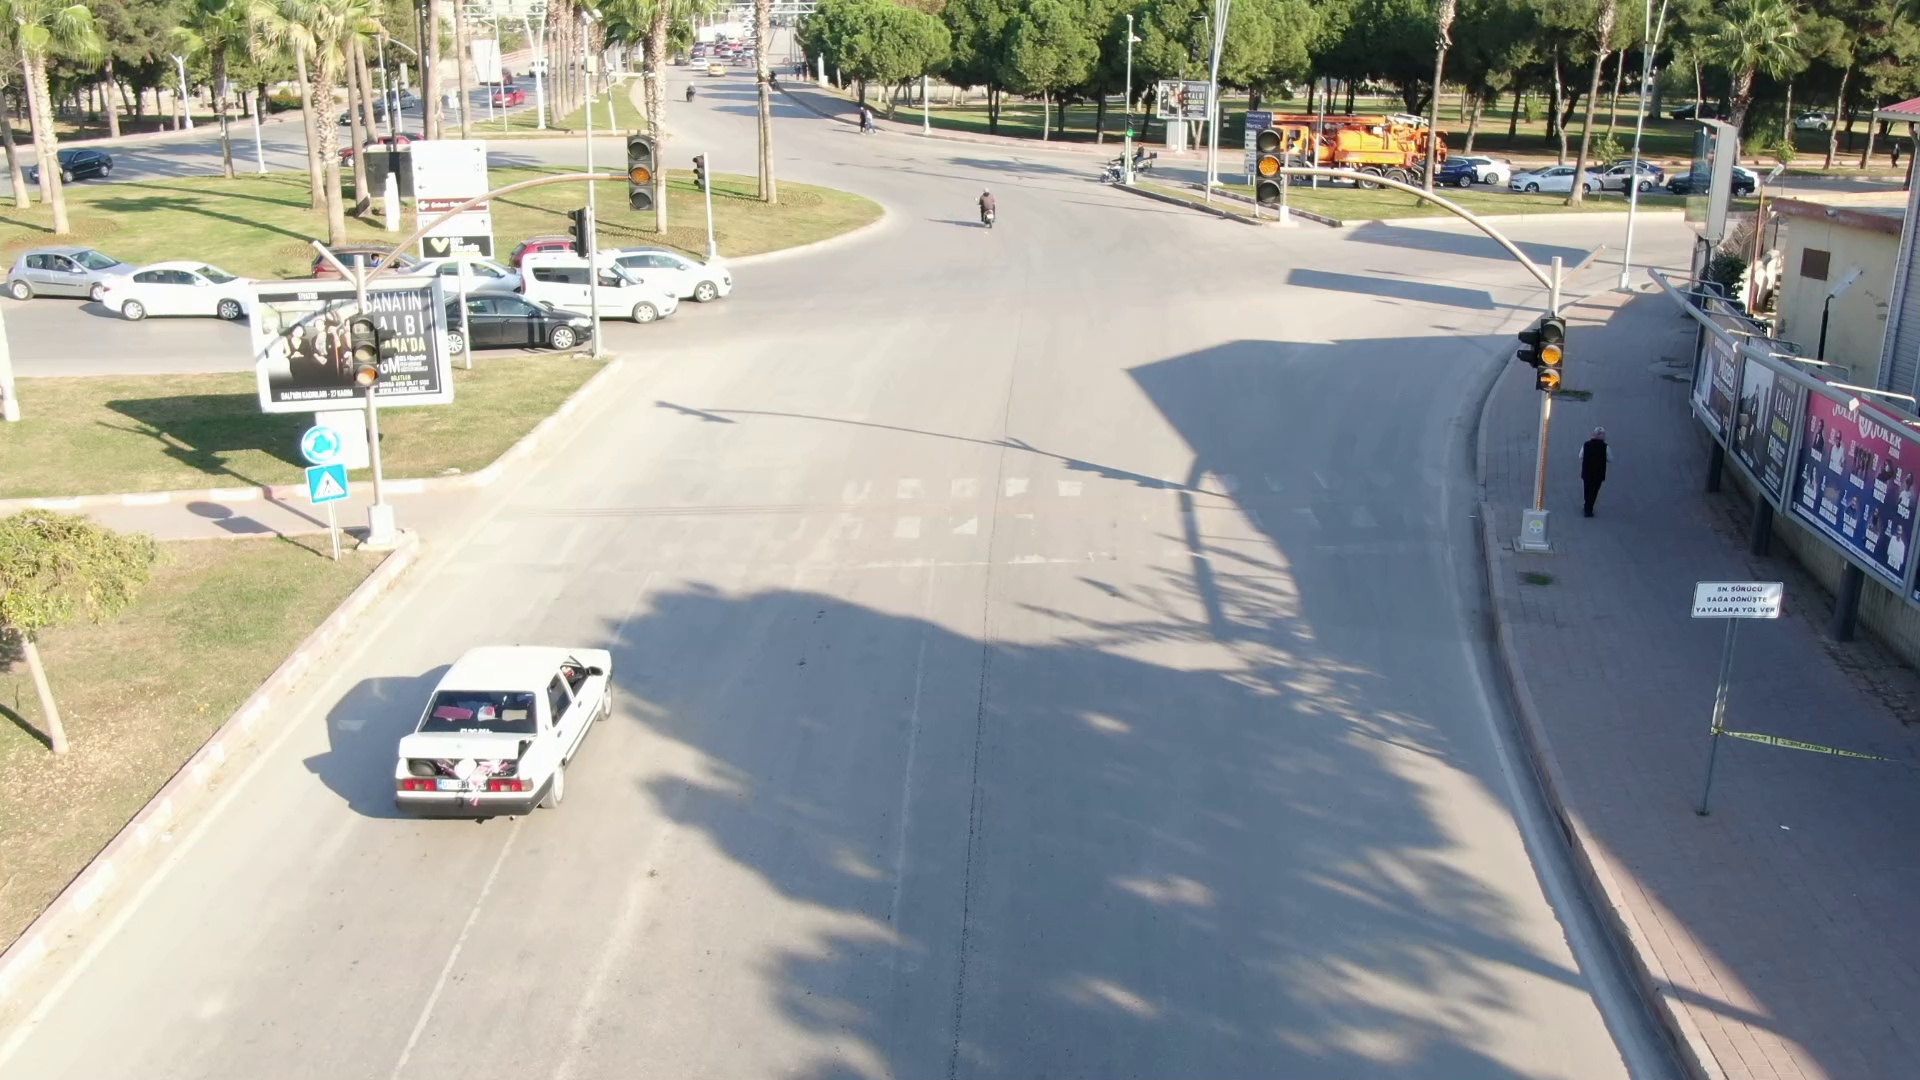car: (366, 637, 633, 823), (492, 239, 684, 331), (398, 282, 617, 349), (106, 249, 266, 315), (1, 222, 149, 290), (615, 237, 743, 296)
person: (1574, 408, 1619, 531), (966, 184, 1008, 231)
